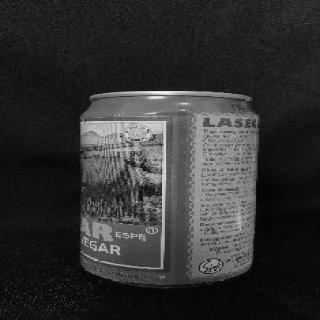alumunium_can: (80, 91, 262, 288)
